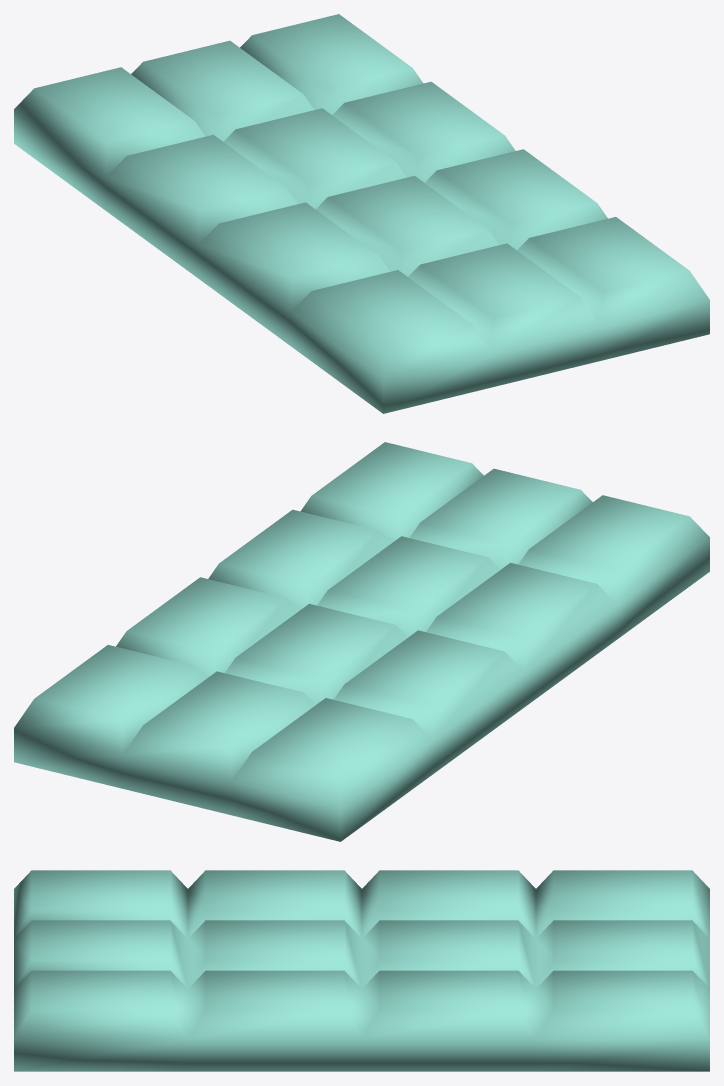
The model's file is Big Chocolate Bar.obj.
The picture shows the model from 3 angles, top to bottom: view 1: azimuth 30°, elevation 25°; view 2: azimuth 150°, elevation 25°; view 3: azimuth 270°, elevation 25°; orthographic projection. The views are drawn at different scales.
Parts seen in each view (by area): view 1: Big_Chocolate_Bar; view 2: Big_Chocolate_Bar; view 3: Big_Chocolate_Bar.
Boxes of the visible parts, left/top/right/bottom form: Big_Chocolate_Bar: left=14, top=14, right=709, bottom=413; Big_Chocolate_Bar: left=14, top=442, right=709, bottom=841; Big_Chocolate_Bar: left=14, top=870, right=709, bottom=1071.
Size of the model in its own units: 19.28 by 3.35 by 37.76.
